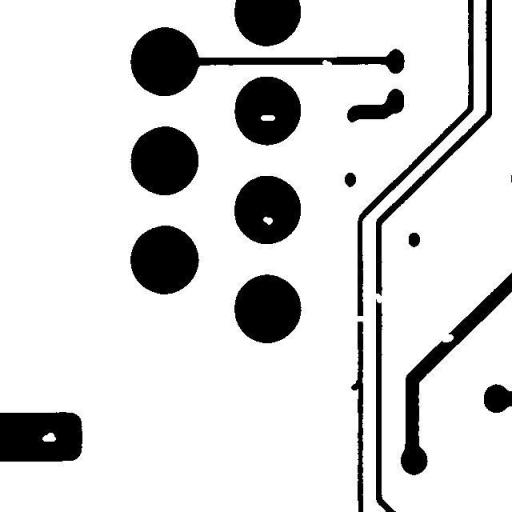mousebite: (436, 329, 458, 347), (317, 54, 337, 72)
open: (366, 287, 388, 308), (350, 310, 370, 326)
pin-hole: (37, 428, 61, 446), (255, 110, 280, 126), (258, 211, 278, 230)
spur: (346, 374, 367, 395)
